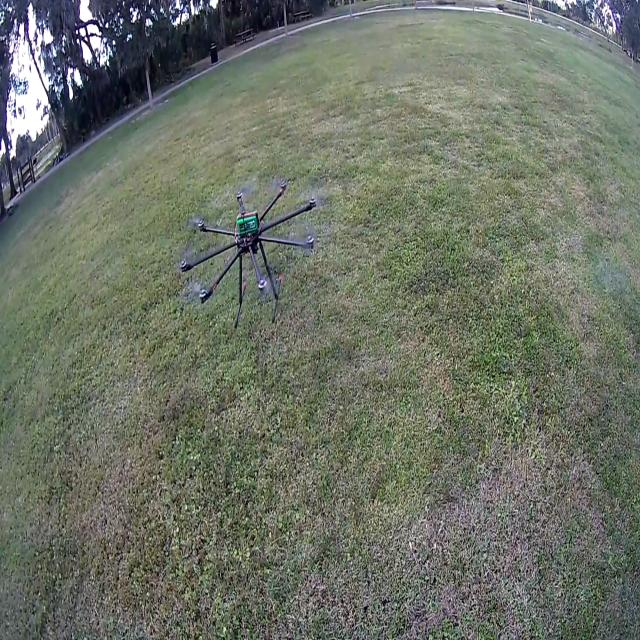drone: (166, 164, 357, 323)
